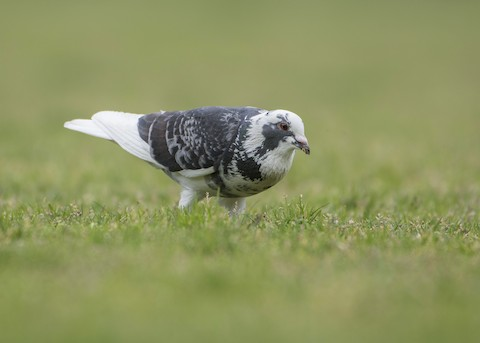pigeon: (60, 100, 316, 220)
